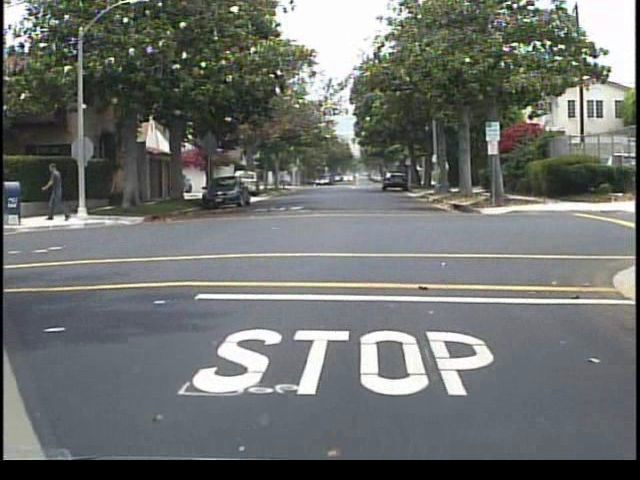person: (43, 159, 74, 226)
